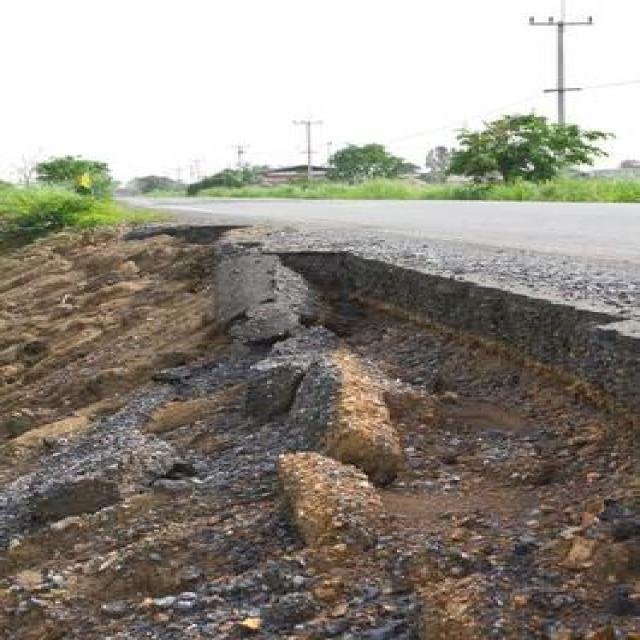road collapse: (7, 176, 640, 638)
